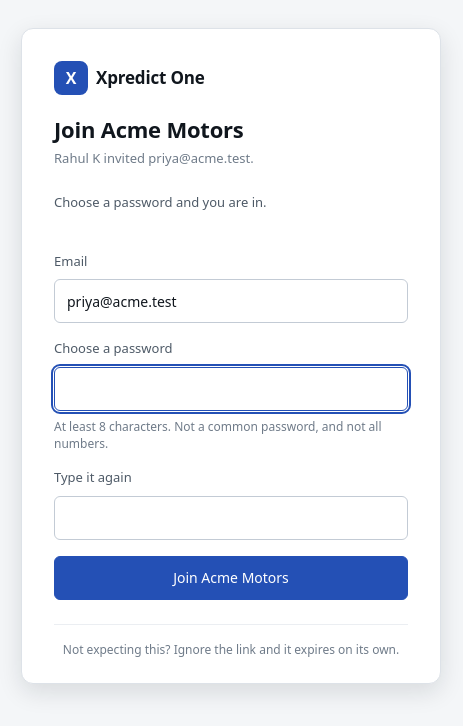
Test case: somebody with no account yet › will not submit two passwords that differ
The width and height of the screenshot is (463, 726).
In the password field labelled "Choose a password": (231, 389) [54,367,408,411], type "correct horse battery staple"
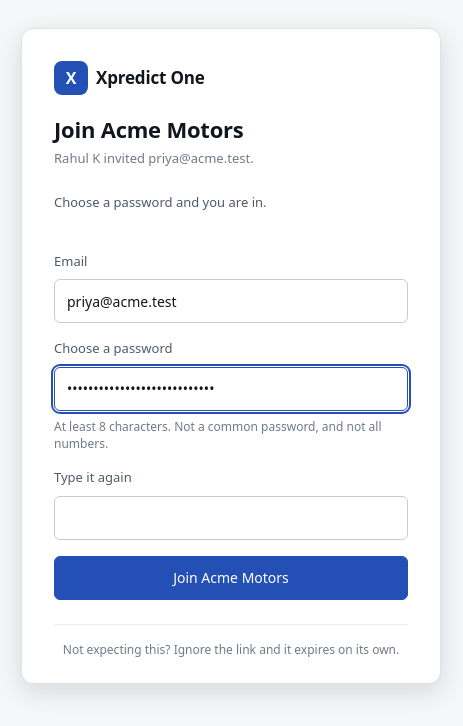
In the password field labelled "Type it again": (231, 518) [54,496,408,540], type "correct horse battery stapler"
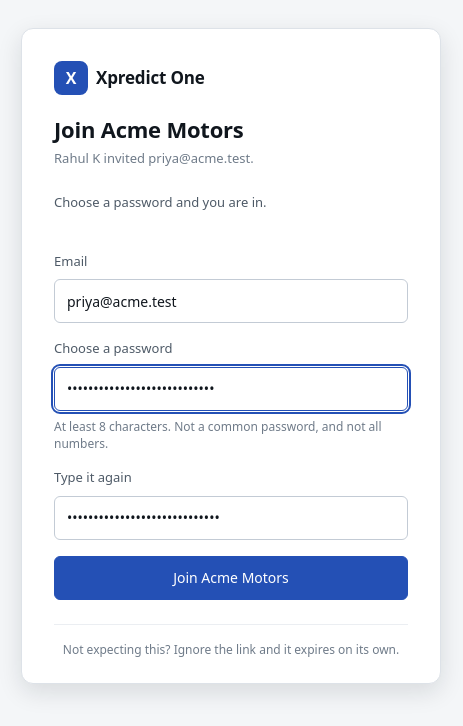
Click the button "Join Acme Motors": click(231, 578) [54,556,408,600]
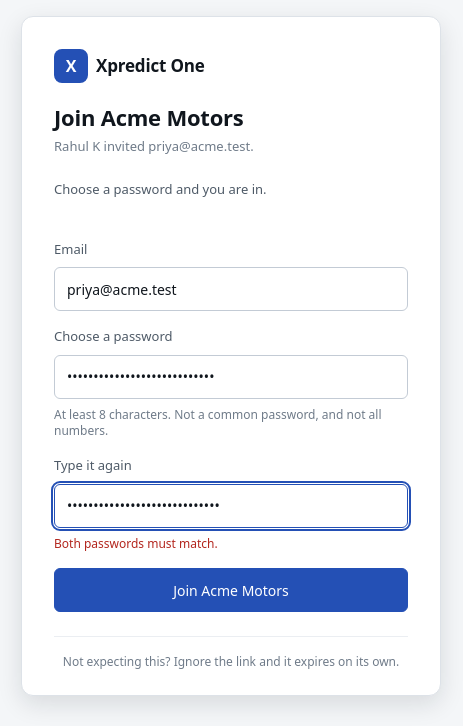
Expected: the text "Both passwords must match." is shown, [54,535,218,552]
